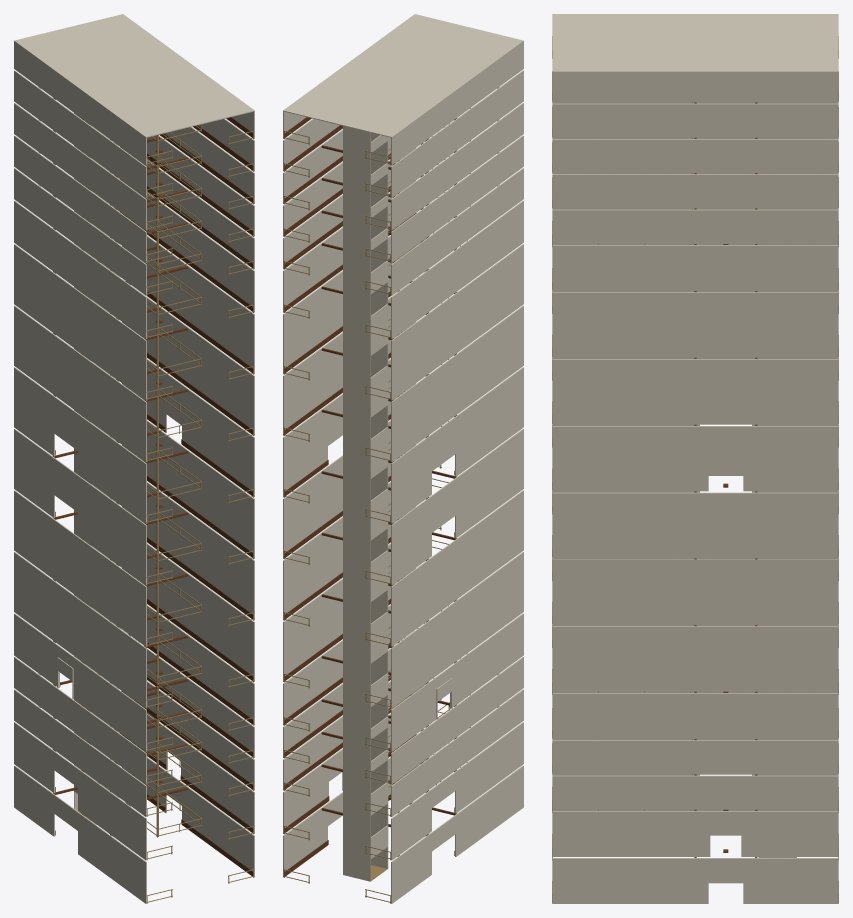
File: AST-CIR-005_forward_copper_d09_cold_d01.glb
3 views of the same model, side by side, from view 1: azimuth 30°, elevation 25°; view 2: azimuth 150°, elevation 25°; view 3: azimuth 270°, elevation 25° (orthographic). The views are drawn at different scales.
Visible parts, largest first — view 1: CORE_TopCover, CORE_OuterWall_06_-1, CORE_OuterWall_10_-1, CORE_OuterWall_09_-1, CORE_OuterWall_05_-1, CORE_OuterWall_09_1, CORE_OuterWall_06_1, CORE_OuterWall_07_1, CORE_OuterWall_05_1, CORE_OuterWall_10_1, CORE_OuterWall_11_-1, CORE_OuterWall_08_1 (+44 smaller); view 2: CORE_ShaftNorth, CORE_TopCover, CORE_OuterWall_06_-1, CORE_OuterWall_10_-1, CORE_OuterWall_09_-1, CORE_OuterWall_05_-1, CORE_ShaftSouth, CORE_OuterWall_11_-1, CORE_OuterWall_12_-1, CORE_OuterWall_03_-1, CORE_OuterWall_15_-1, CORE_OuterWall_02_-1 (+37 smaller); view 3: CORE_OuterWall_07_1, CORE_OuterWall_05_1, CORE_OuterWall_06_1, CORE_OuterWall_09_1, CORE_OuterWall_10_1, CORE_OuterWall_08_1, CORE_TopCover, CORE_OuterWall_04_1, CORE_OuterWall_11_1, CORE_OuterWall_00_1, CORE_OuterWall_02_1, CORE_OuterWall_03_1 (+10 smaller).
Part boxes in pixels (x1,y1,x2,y2): CORE_TopCover: (14,14,254,137); CORE_OuterWall_06_-1: (14,490,146,646); CORE_OuterWall_10_-1: (14,244,146,400); CORE_OuterWall_09_-1: (14,305,146,461); CORE_OuterWall_05_-1: (14,552,146,708); CORE_OuterWall_09_1: (122,279,254,435); CORE_OuterWall_06_1: (122,482,254,620); CORE_OuterWall_07_1: (122,420,254,558); CORE_OuterWall_05_1: (122,543,254,681); CORE_OuterWall_10_1: (122,235,254,374); CORE_OuterWall_11_-1: (14,200,146,338); CORE_OuterWall_08_1: (122,358,254,497); CORE_ShaftNorth: (343,106,370,881); CORE_TopCover: (283,14,523,137); CORE_OuterWall_06_-1: (391,490,523,646); CORE_OuterWall_10_-1: (391,244,523,400); CORE_OuterWall_09_-1: (391,305,523,461); CORE_OuterWall_05_-1: (391,552,523,708); CORE_ShaftSouth: (361,93,388,868); CORE_OuterWall_11_-1: (391,200,523,338); CORE_OuterWall_12_-1: (391,168,523,295); CORE_OuterWall_03_-1: (391,657,523,784); CORE_OuterWall_15_-1: (391,70,523,197); CORE_OuterWall_02_-1: (391,689,523,816); CORE_OuterWall_07_1: (552,492,838,558); CORE_OuterWall_05_1: (552,626,838,691); CORE_OuterWall_06_1: (552,559,838,624); CORE_OuterWall_09_1: (552,359,838,424); CORE_OuterWall_10_1: (552,292,838,357); CORE_OuterWall_08_1: (552,426,838,491); CORE_TopCover: (552,14,838,72); CORE_OuterWall_04_1: (552,693,838,738); CORE_OuterWall_11_1: (552,245,838,290); CORE_OuterWall_00_1: (552,858,838,903); CORE_OuterWall_02_1: (552,775,838,809); CORE_OuterWall_03_1: (552,740,838,774).
Size of the model in its own units: 15.88 by 106 by 33.08.
Materials: 4 (3 with a texture image).
